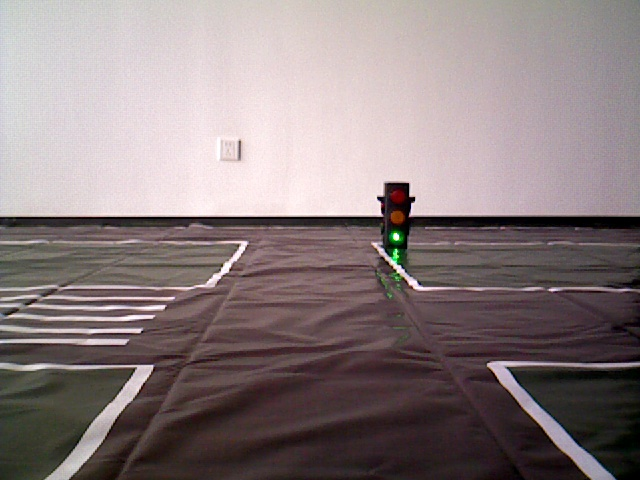green: (384, 183, 407, 244)
